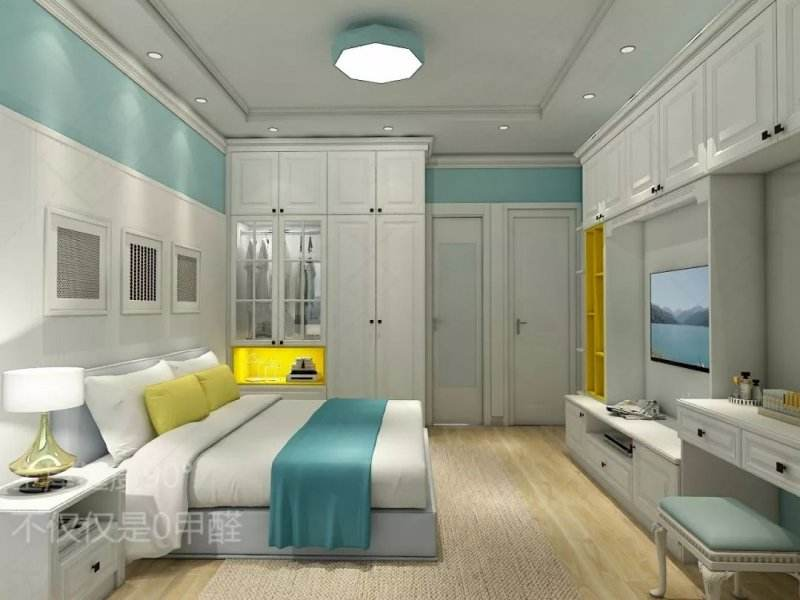床: (77, 391, 448, 567)
枕头: (52, 352, 232, 456)
灯: (4, 363, 83, 491), (333, 33, 433, 90), (618, 42, 642, 58), (582, 90, 602, 105), (497, 122, 517, 137), (143, 49, 165, 62), (266, 125, 284, 139), (378, 124, 400, 135), (190, 96, 208, 108)
